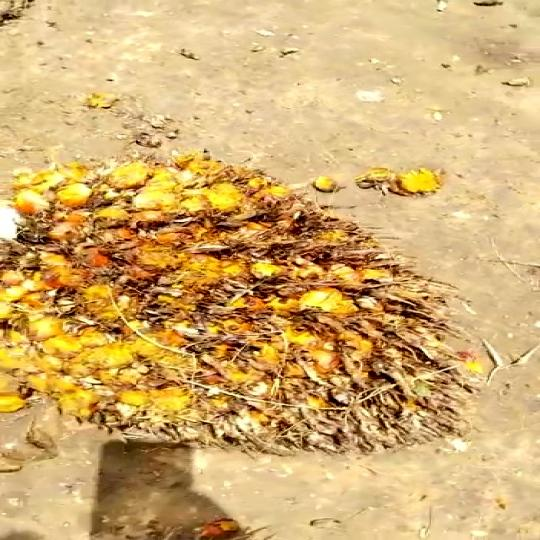terlalu masak: (0, 146, 493, 472)
